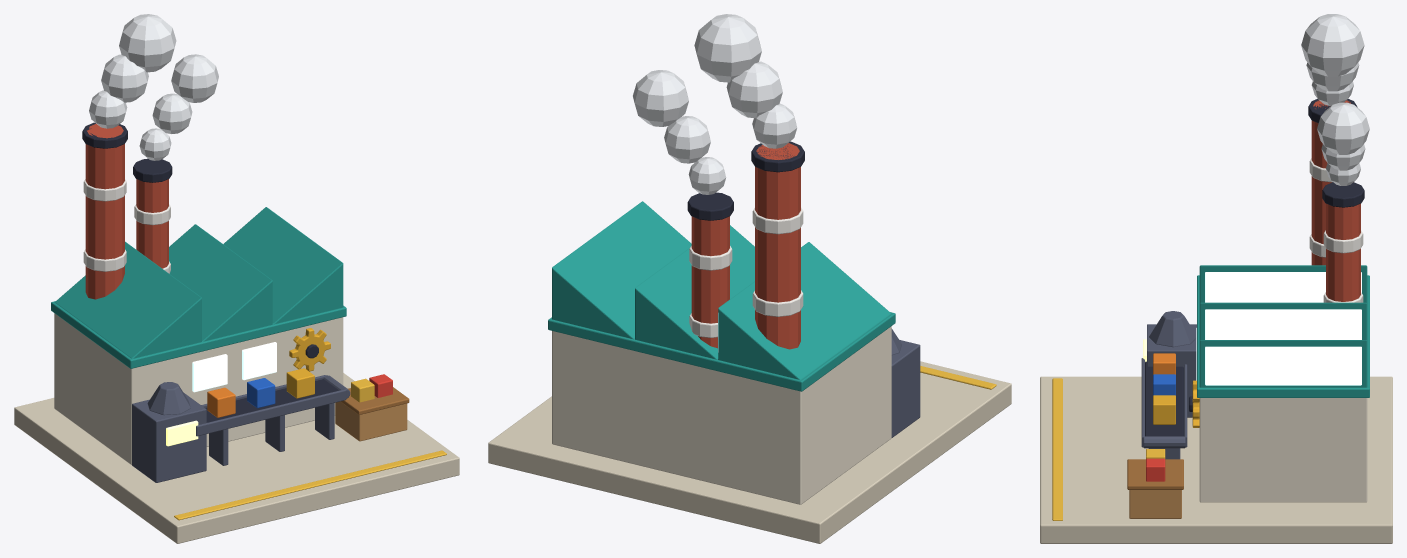
The model's file is factory.glb.
3 renders of one model, left to right at view 1: azimuth 30°, elevation 25°; view 2: azimuth 150°, elevation 25°; view 3: azimuth 270°, elevation 25°, orthographic. The views are drawn at different scales.
Visible parts, largest first — view 1: Factory; view 2: Factory; view 3: Factory.
Part boxes in pixels (left/top/right/bottom): Factory: left=14, top=14, right=459, bottom=543; Factory: left=488, top=14, right=1011, bottom=543; Factory: left=1040, top=14, right=1392, bottom=543.
Bounding box in the file's own units: 2 × 2.72 × 2.
